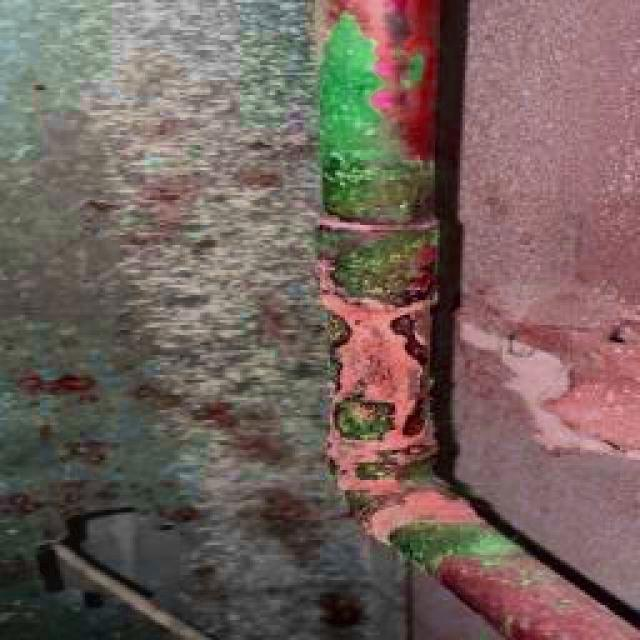rust: (316, 2, 639, 639)
